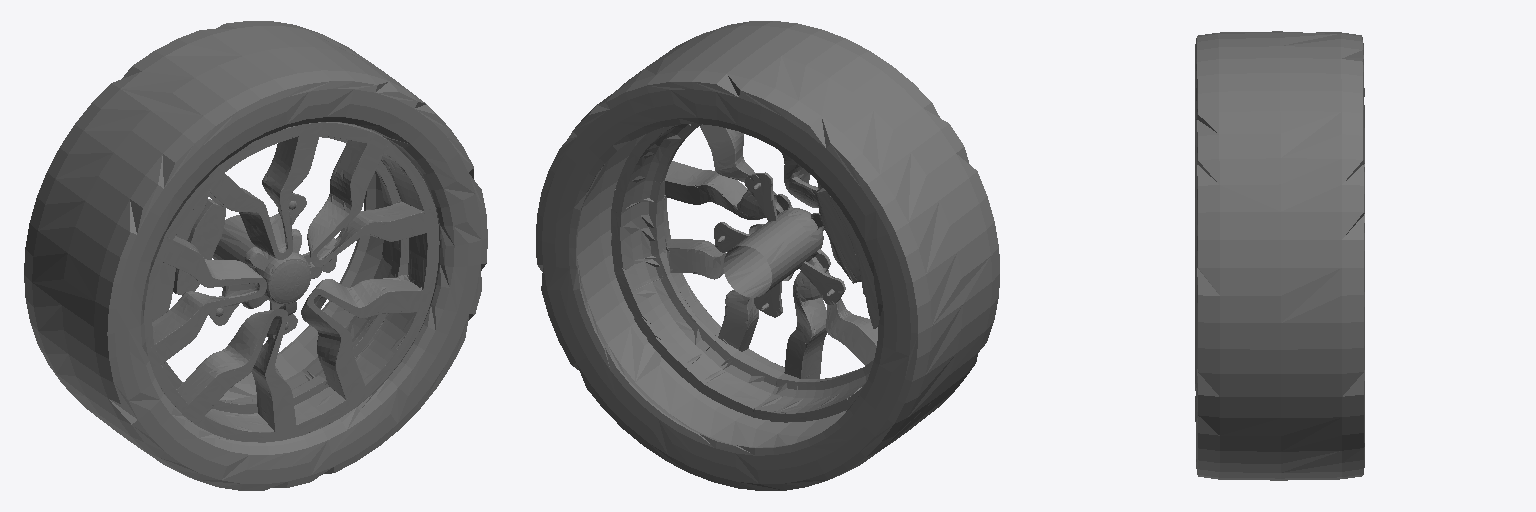
The model's file is audi_r8_rueda.obj.
3 renders of one model, left to right at view 1: azimuth 30°, elevation 25°; view 2: azimuth 150°, elevation 25°; view 3: azimuth 270°, elevation 25°, orthographic.
Parts seen in each view (by area): view 1: Object045; view 2: Object045; view 3: Object045.
Part boxes in pixels (x1,y1,x2,y2): Object045: (24,21,487,490); Object045: (536,21,999,490); Object045: (1195,31,1364,480).
Size of the model in its own units: 1.27 by 1.27 by 0.4836.